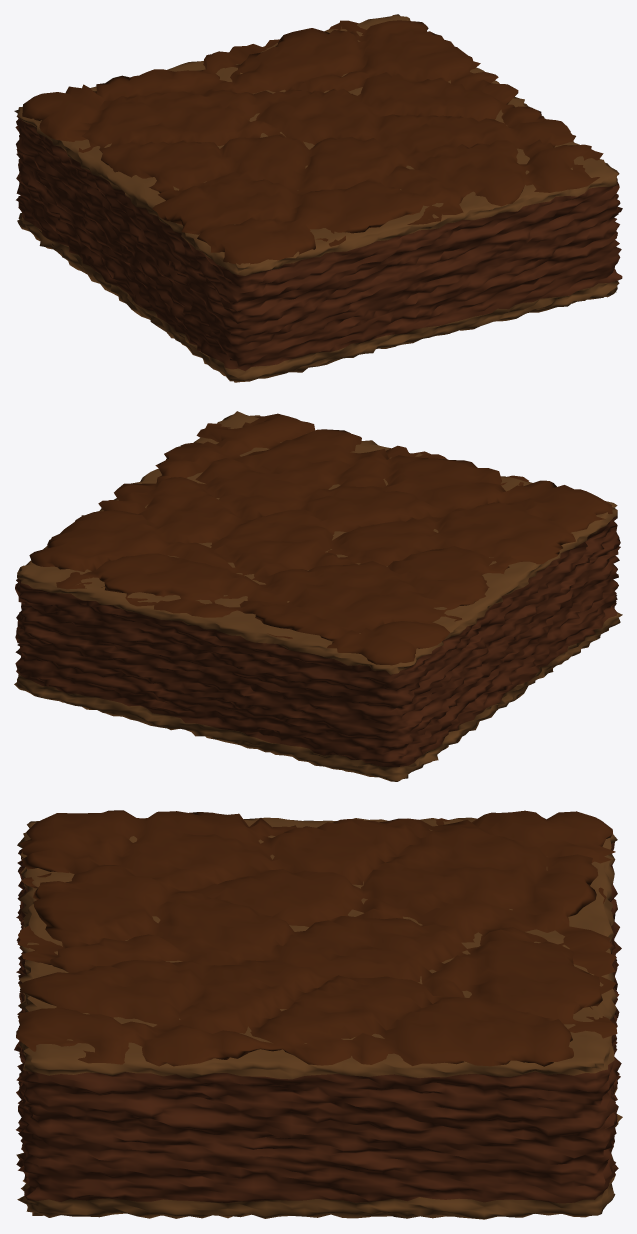
The model's file is brownieseperatefbx.fbx.
The picture shows the model from 3 angles, top to bottom: view 1: azimuth 30°, elevation 25°; view 2: azimuth 150°, elevation 25°; view 3: azimuth 270°, elevation 25°; orthographic projection. The views are drawn at different scales.
Parts seen in each view (by area): view 1: Cube.001, Cube; view 2: Cube.001, Cube; view 3: Cube.001, Cube.
Part boxes in pixels (bbox=[...]): Cube.001: bbox=[22, 20, 603, 264]; Cube: bbox=[14, 14, 622, 382]; Cube.001: bbox=[29, 413, 612, 665]; Cube: bbox=[14, 411, 622, 781]; Cube.001: bbox=[16, 810, 617, 1066]; Cube: bbox=[14, 817, 622, 1219].
Bounding box in the file's own units: 208 × 66.57 × 209.
